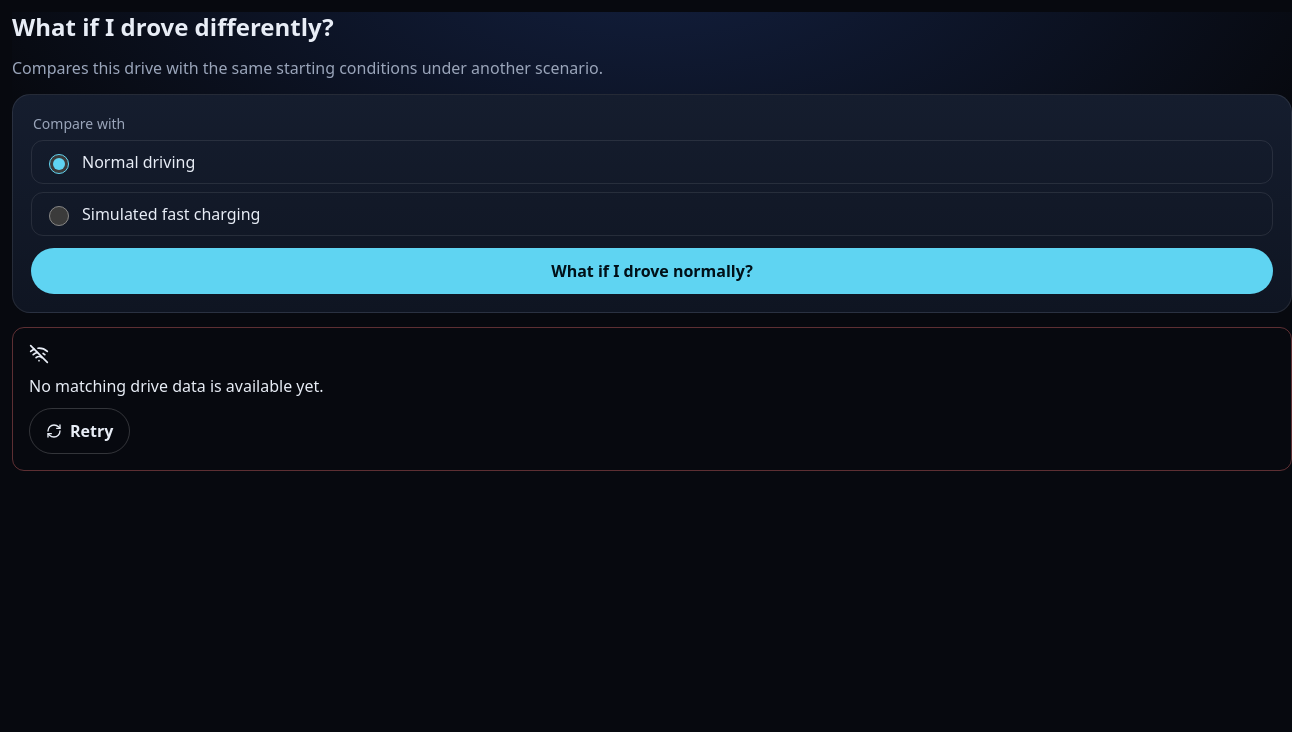
WhatIf page › shows an error message when the comparison request fails
Click the button "What if I drove normally?".
click(652, 271)  # box [31,248,1273,294]
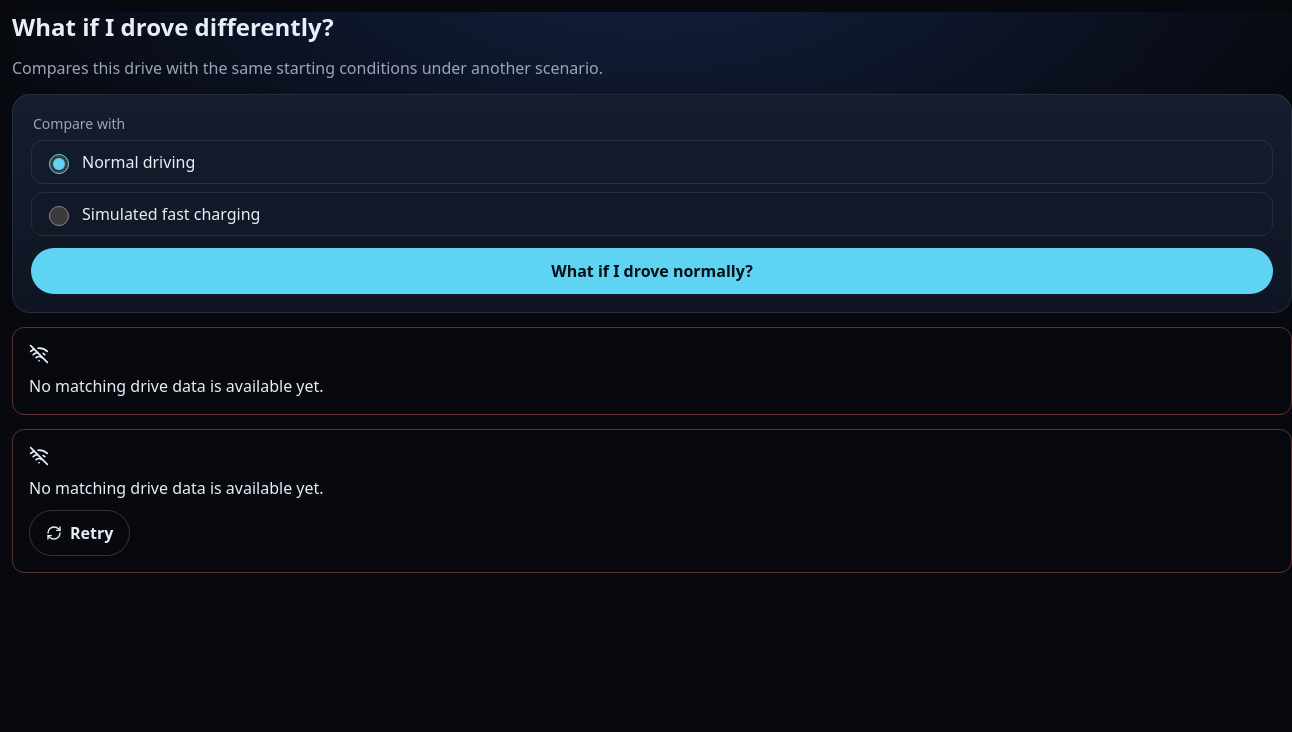
Now the message "No matching drive data is available yet." is shown, box [12,327,1291,415]
